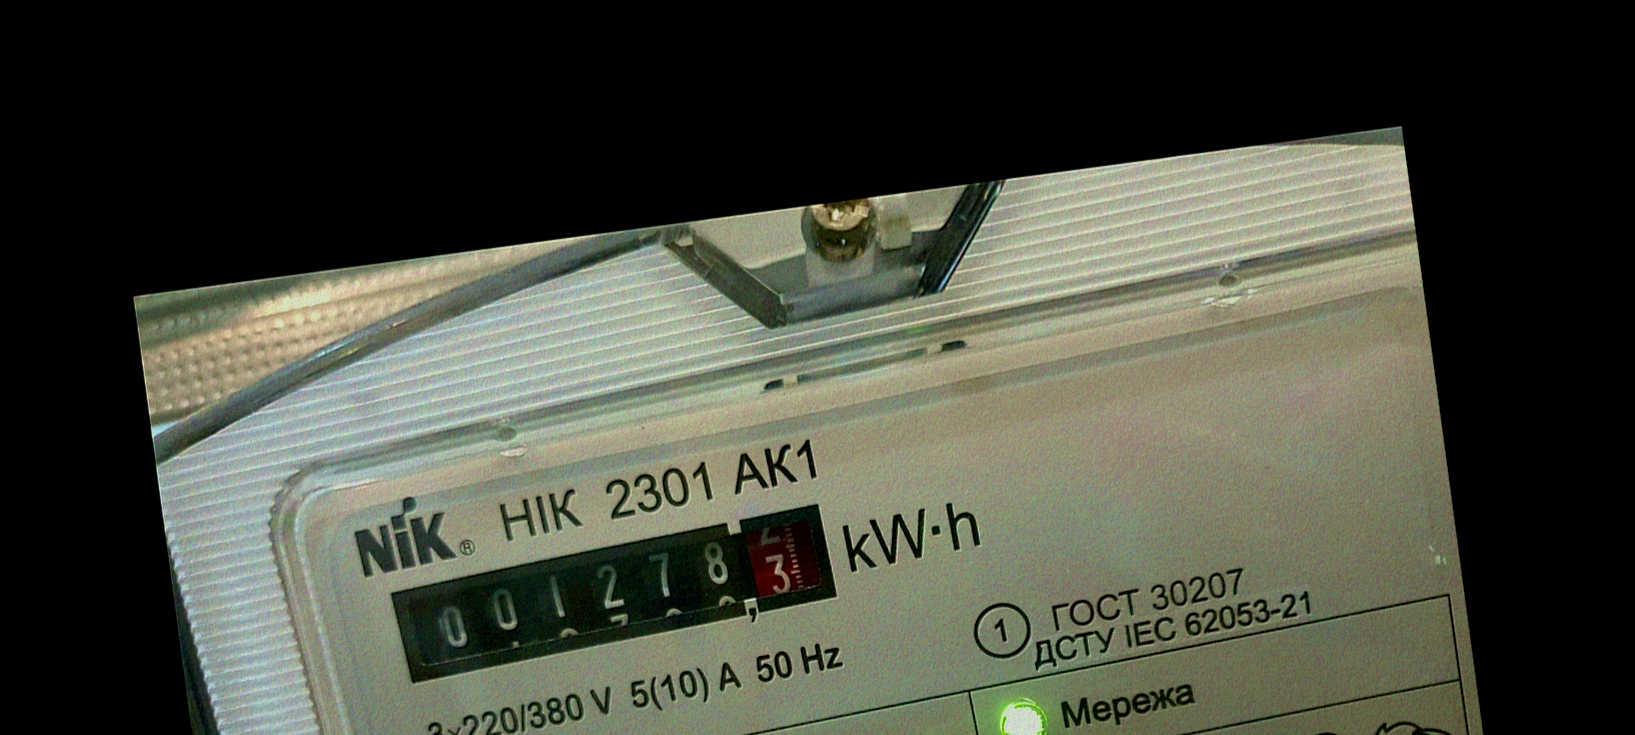0: (437, 601, 472, 652), (488, 585, 519, 634)
1: (546, 572, 569, 622)
2: (593, 562, 626, 611), (754, 525, 783, 549)
3: (761, 549, 794, 596)
7: (646, 550, 675, 601)
8: (700, 539, 731, 589)
screen: (366, 492, 858, 697)
